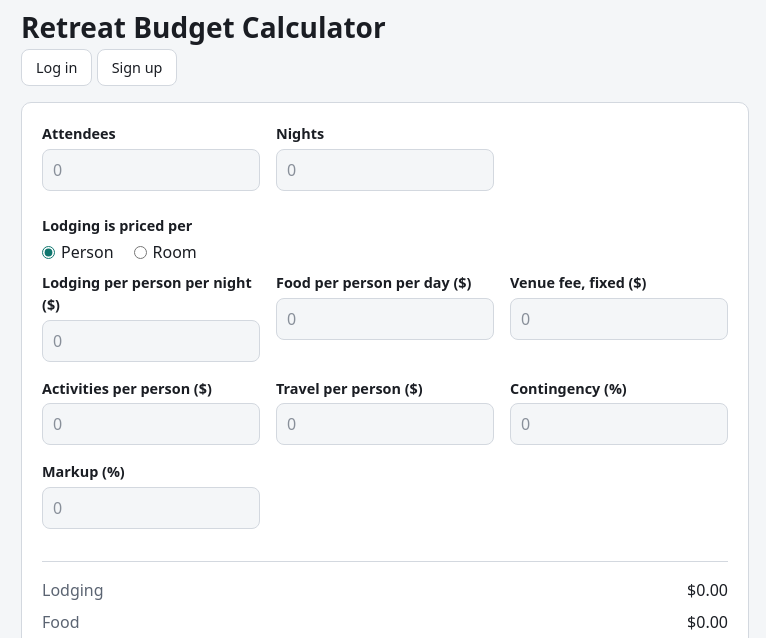
log in › explains that an unconfirmed email must be confirmed
Click the button "Log in".
click(57, 67)  # box x1=21 y1=49 x2=92 y2=86
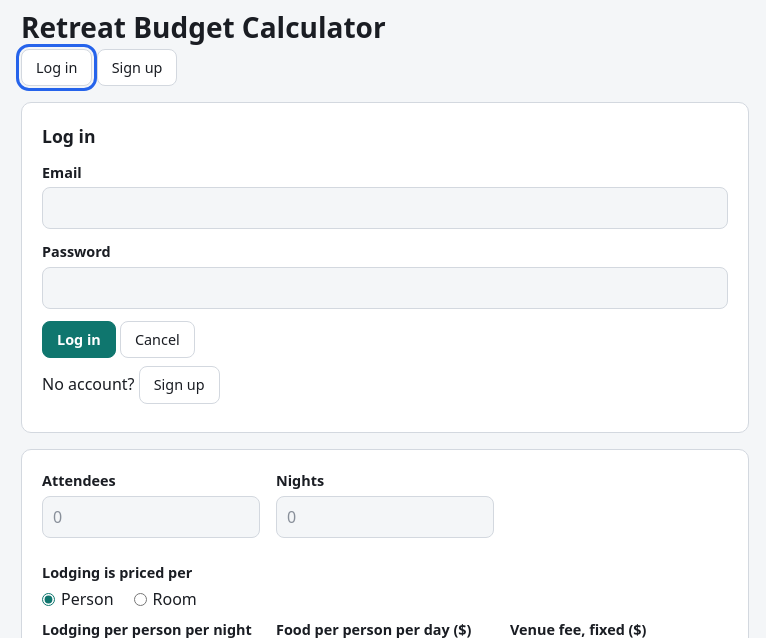
Clear the field labelled "Email" at (385, 208), box x1=42 y1=187 x2=728 y2=229
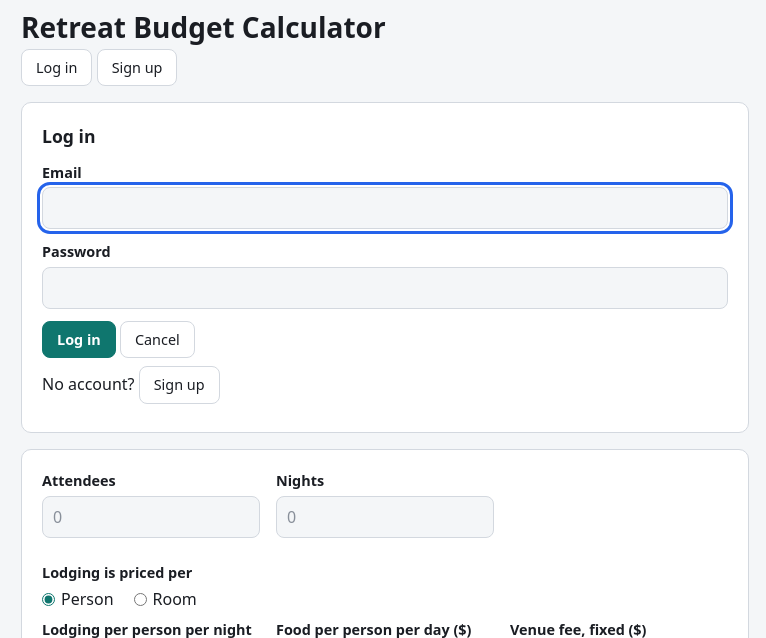
Clear the password field labelled "Password" at (385, 288), box x1=42 y1=267 x2=728 y2=309
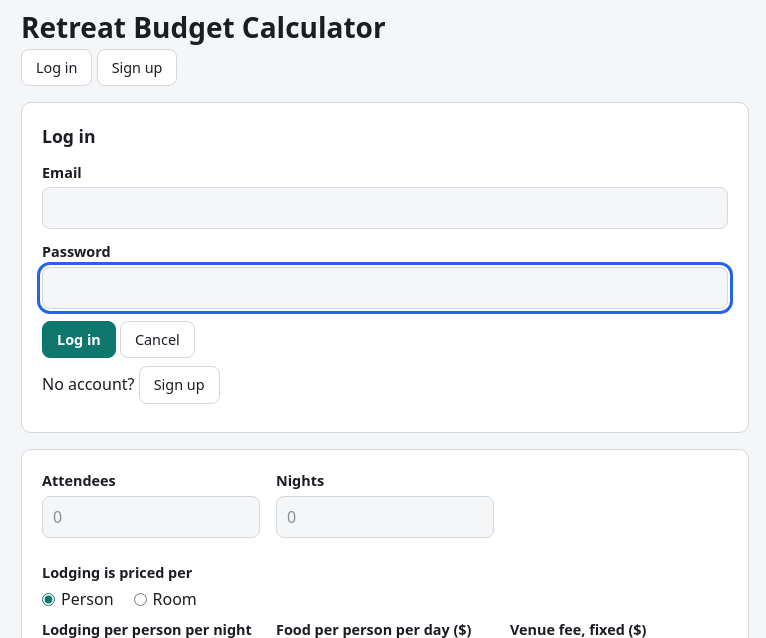
Type "new@example.com" into the field labelled "Email".
click(385, 208); type("new@example.com")  # box x1=42 y1=187 x2=728 y2=229
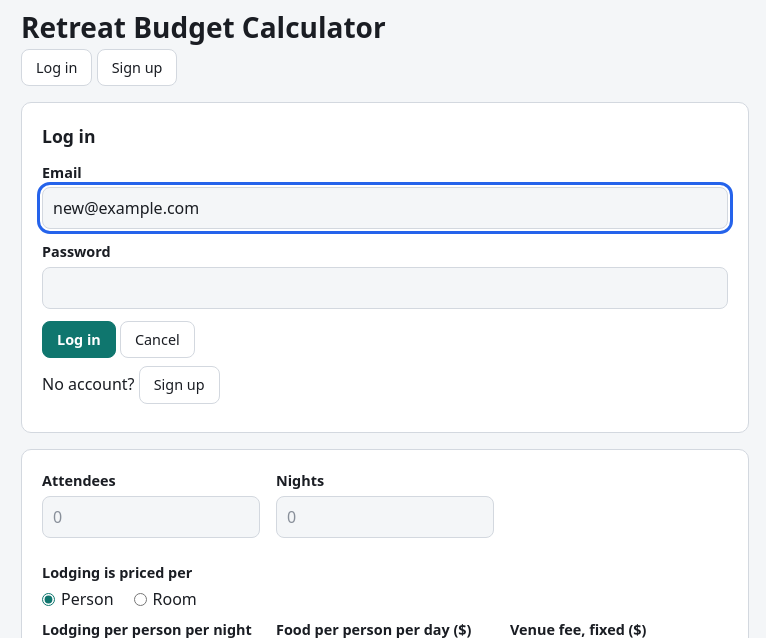
Type "correct-horse-9" into the password field labelled "Password".
click(385, 288); type("correct-horse-9")  # box x1=42 y1=267 x2=728 y2=309
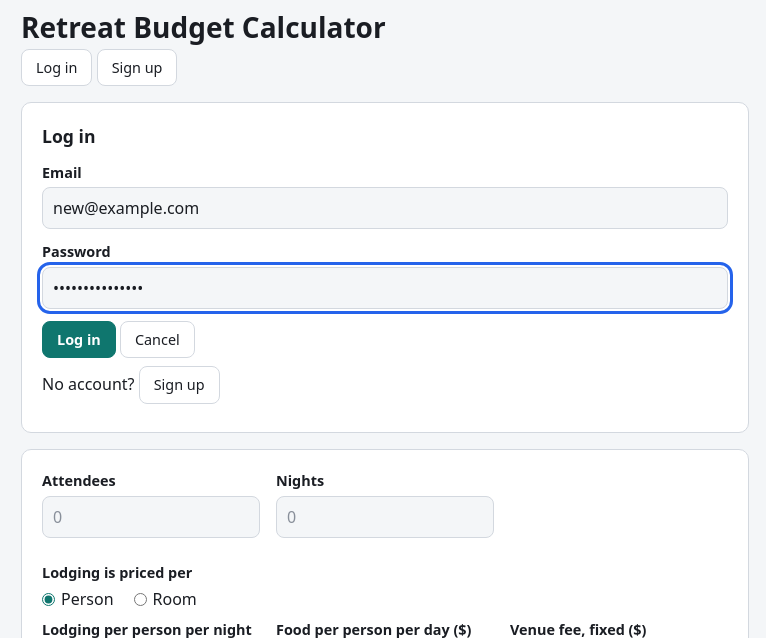
Click the submit button.
click(79, 340)  # box x1=42 y1=321 x2=116 y2=358
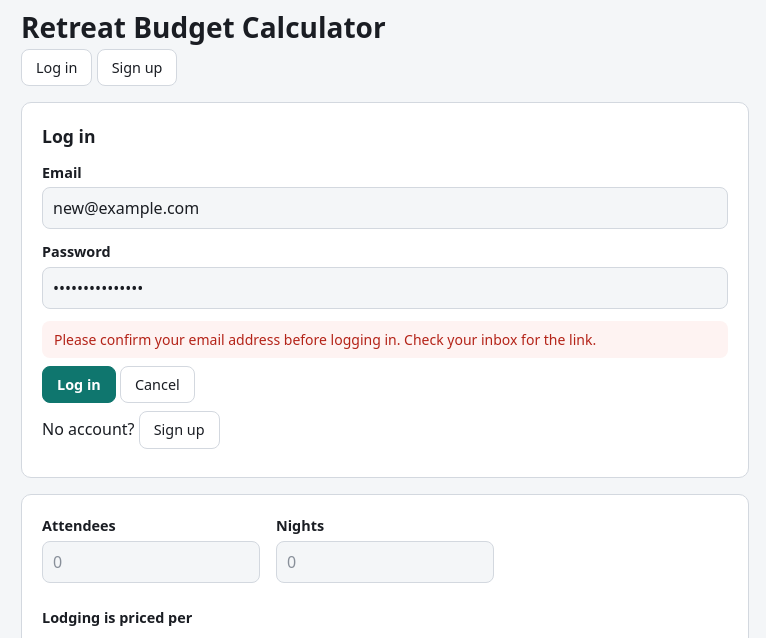
Expected: the message shows "confirm your email", x1=54 y1=330 x2=596 y2=349
